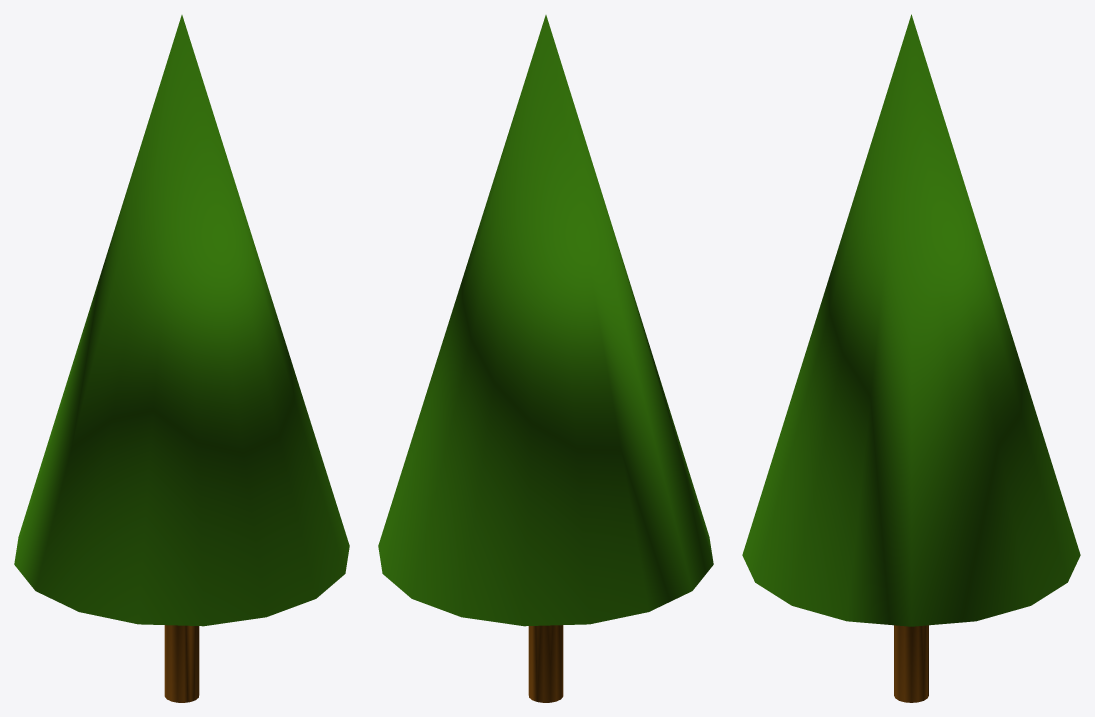
File: tree.glb
3 views of the same model, side by side, from view 1: azimuth 30°, elevation 25°; view 2: azimuth 150°, elevation 25°; view 3: azimuth 270°, elevation 25° (orthographic).
Visible parts, largest first — view 1: cone2, Cylinder1; view 2: cone2, Cylinder1; view 3: cone2, Cylinder1.
Part boxes in pixels (bbox=[...]): cone2: bbox=[14, 15, 349, 626]; Cylinder1: bbox=[164, 625, 199, 702]; cone2: bbox=[378, 15, 713, 626]; Cylinder1: bbox=[528, 625, 563, 702]; cone2: bbox=[742, 14, 1080, 626]; Cylinder1: bbox=[894, 625, 928, 702].
Bounding box in the file's own units: 4.96 × 11.03 × 4.96.
